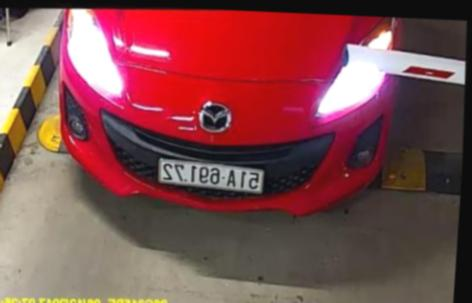License_Plate: (153, 156, 270, 196)
